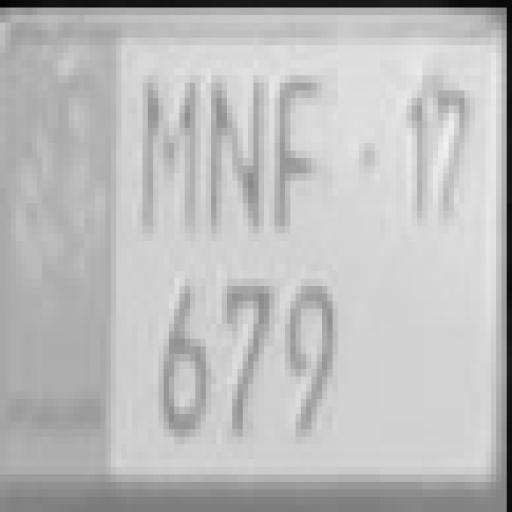6: (163, 277, 212, 447)
7: (220, 279, 274, 437)
9: (280, 286, 339, 430)
F: (275, 77, 331, 221)
M: (143, 78, 201, 228)
N: (204, 72, 269, 223)
